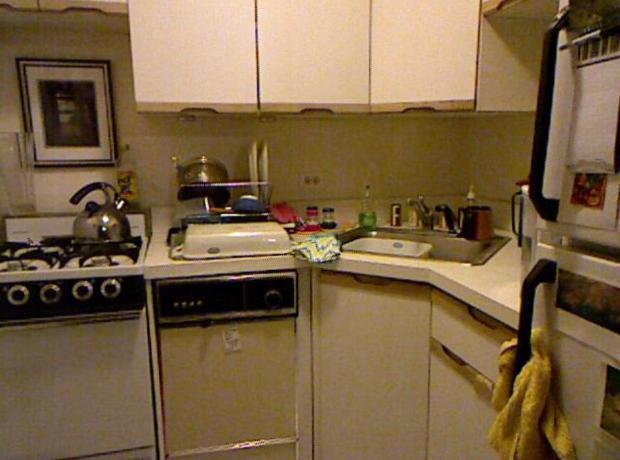Electrodomestico: (519, 21, 617, 457), (5, 212, 160, 458), (146, 250, 298, 459)
Lavaplatos: (315, 182, 516, 278)
